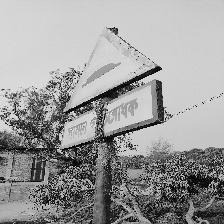Speed-breaker: (60, 27, 165, 149)
